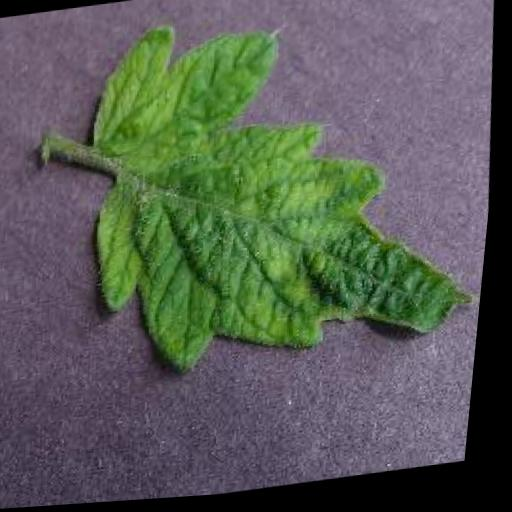Mosaic Virus: (67, 0, 510, 389)
